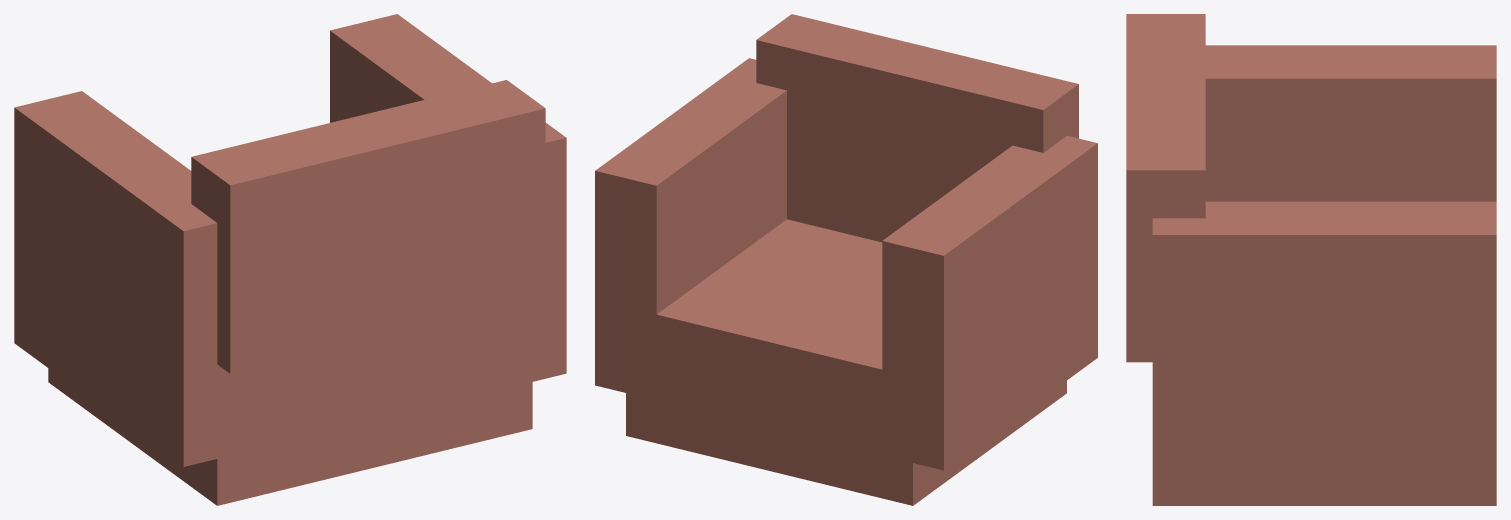
File: armchair.fbx
3 renders of one model, left to right at view 1: azimuth 30°, elevation 25°; view 2: azimuth 150°, elevation 25°; view 3: azimuth 270°, elevation 25°, orthographic. The views are drawn at different scales.
Visible parts, largest first — view 1: armchair; view 2: armchair; view 3: armchair.
Part boxes in pixels (<box>): armchair: <box>14,14,566,505</box>; armchair: <box>595,14,1097,505</box>; armchair: <box>1126,14,1496,505</box>.
Size of the model in its own units: 0.17 by 0.14 by 0.14.
